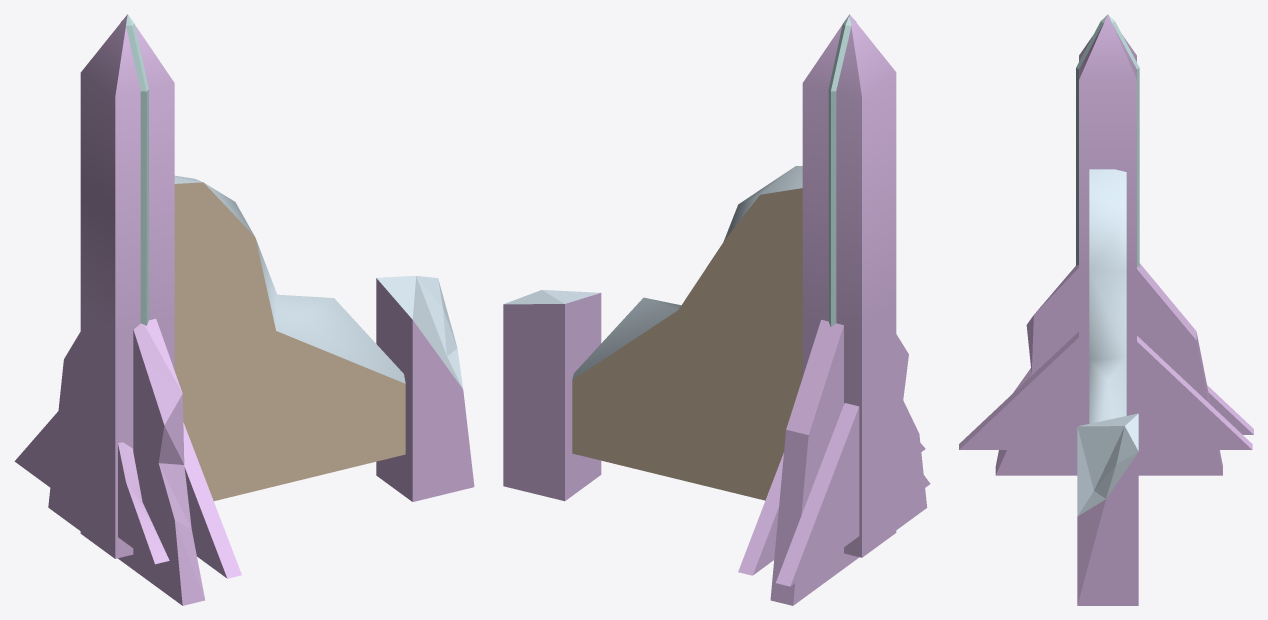
3 views of the same model, side by side, from view 1: azimuth 30°, elevation 25°; view 2: azimuth 150°, elevation 25°; view 3: azimuth 270°, elevation 25° (orthographic). The views are drawn at different scales.
Visible parts, largest first — view 1: Object16; view 2: Object16; view 3: Object16.
Part boxes in pixels (box(x1,y1,x2,y2)): Object16: box(14, 14, 474, 605); Object16: box(503, 14, 930, 605); Object16: box(959, 14, 1253, 605).
Bounding box in the file's own units: 417 × 601 × 351.
